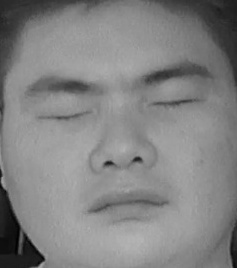blink: (40, 97, 96, 133), (148, 85, 202, 121)
mouth: (89, 178, 173, 227)
